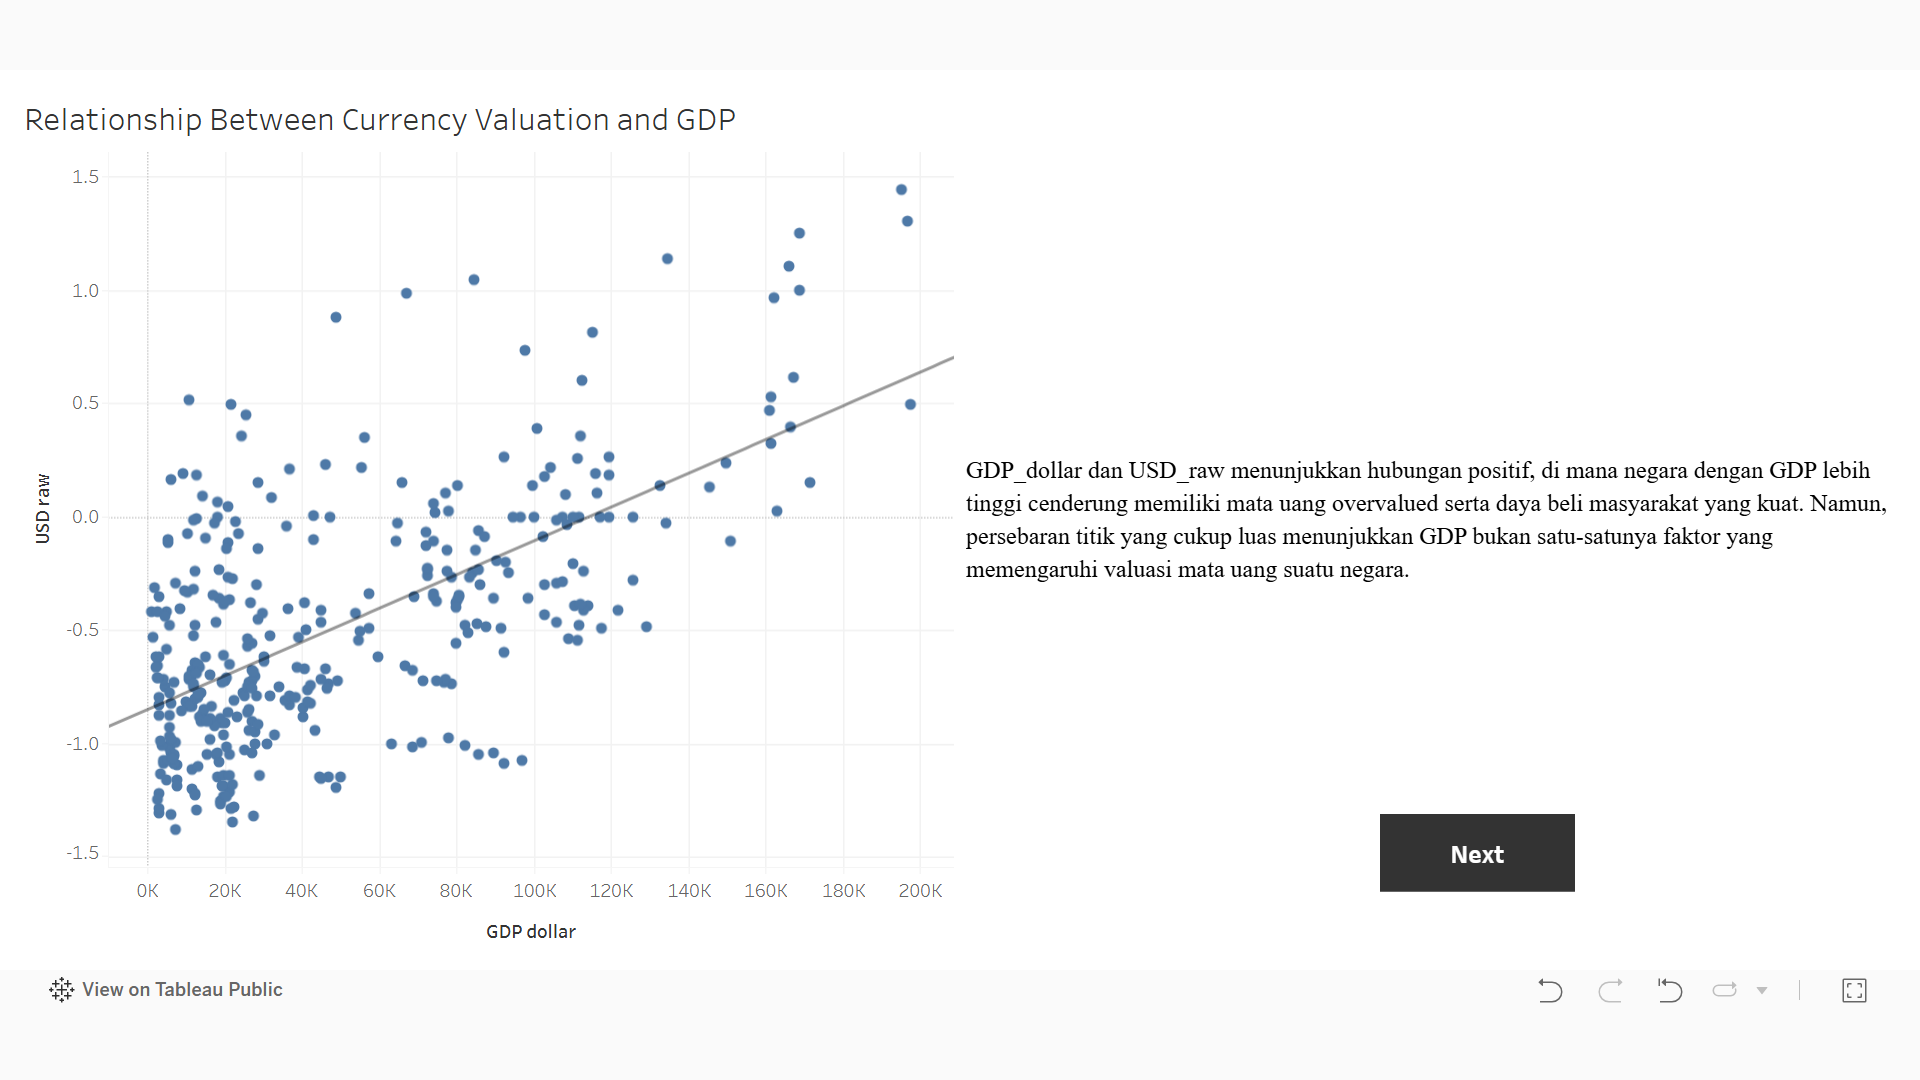

Layout of this report page (visuals, bound fields, positions):
{"tool":"tableau","page":{"name":"Objective Analysis 3","canvas":[1000,1000],"units":"permille","ordinal":3},"visuals":[{"type":"worksheet","title":"Relationship Between Currency Valuation and GDP","mark":"Circle","rows":["USD_raw"],"cols":["GDP_dollar"],"box":[4.2,13.3,495.8,973.3]},{"type":"text","box":[500,13.3,495.8,973.3]},{"type":"dashboard-object","box":[718.4,826.7,102.2,86.7]}]}

Visuals, with their boxes on the dashboard's canvas, which has no fixed pixel size, in thousandths of its width and height (x1, y1, x2, y2). These are canvas units, not pixel positions in the 1920x1080 screenshot, which may show the page scaled, cropped or inside an application window:
"Relationship Between Currency Valuation and GDP" worksheet (Circle marks): left=4, top=13, right=500, bottom=987
text: left=500, top=13, right=996, bottom=987
dashboard-object: left=718, top=827, right=821, bottom=913
